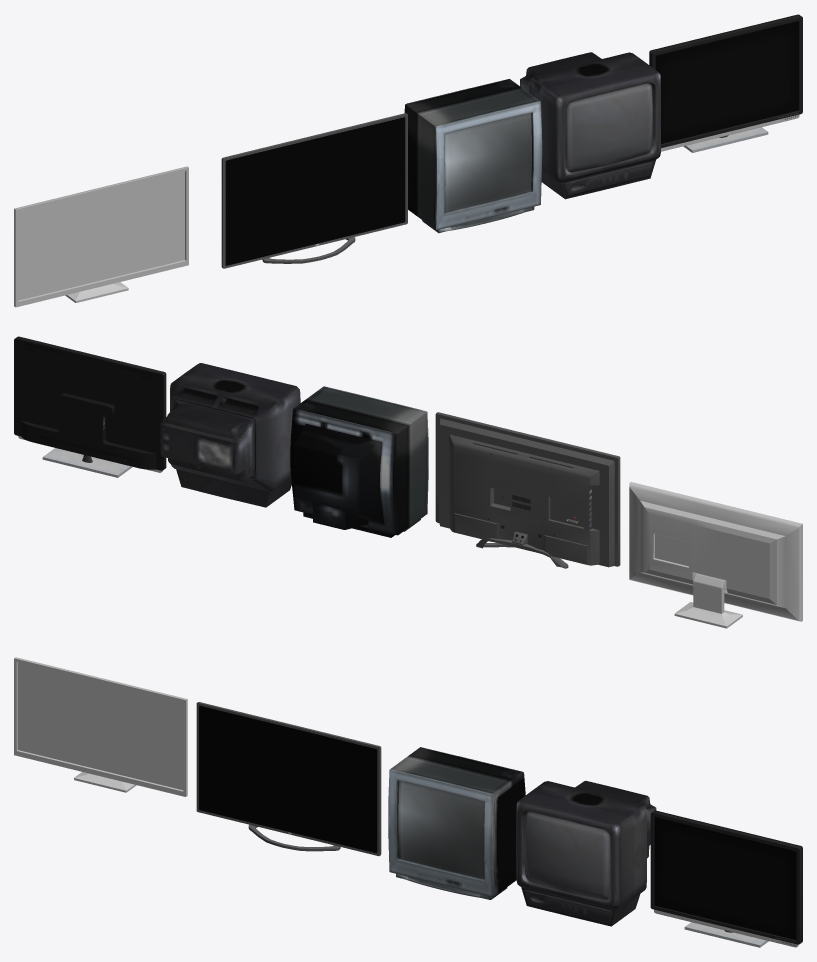
The picture shows the model from 3 angles, top to bottom: view 1: azimuth 30°, elevation 25°; view 2: azimuth 150°, elevation 25°; view 3: azimuth 330°, elevation 25°; orthographic projection.
Visible parts, largest first — view 1: 32 inch led, 27 onch led, tv_2, tv_1, 24 inch led; view 2: 32 inch led, 27 onch led, tv_2, 24 inch led, tv_1; view 3: 32 inch led, 27 onch led, tv_2, tv_1, 24 inch led.
Part boxes in pixels (box(x1,y1,x2,y2)): 32 inch led: box(221, 113, 407, 268); 27 onch led: box(14, 166, 188, 307); tv_2: box(404, 79, 542, 233); tv_1: box(520, 52, 660, 199); 24 inch led: box(649, 14, 802, 152); 32 inch led: box(435, 412, 620, 568); 27 onch led: box(629, 482, 802, 628); tv_2: box(290, 386, 428, 537); 24 inch led: box(14, 336, 166, 477); tv_1: box(160, 363, 300, 507); 32 inch led: box(196, 702, 381, 856); 27 onch led: box(14, 657, 187, 796); tv_2: box(388, 747, 525, 899); tv_1: box(516, 781, 656, 926); 24 inch led: box(650, 810, 802, 947).
Size of the model in its own units: 4.46 by 0.6471 by 0.5497.
